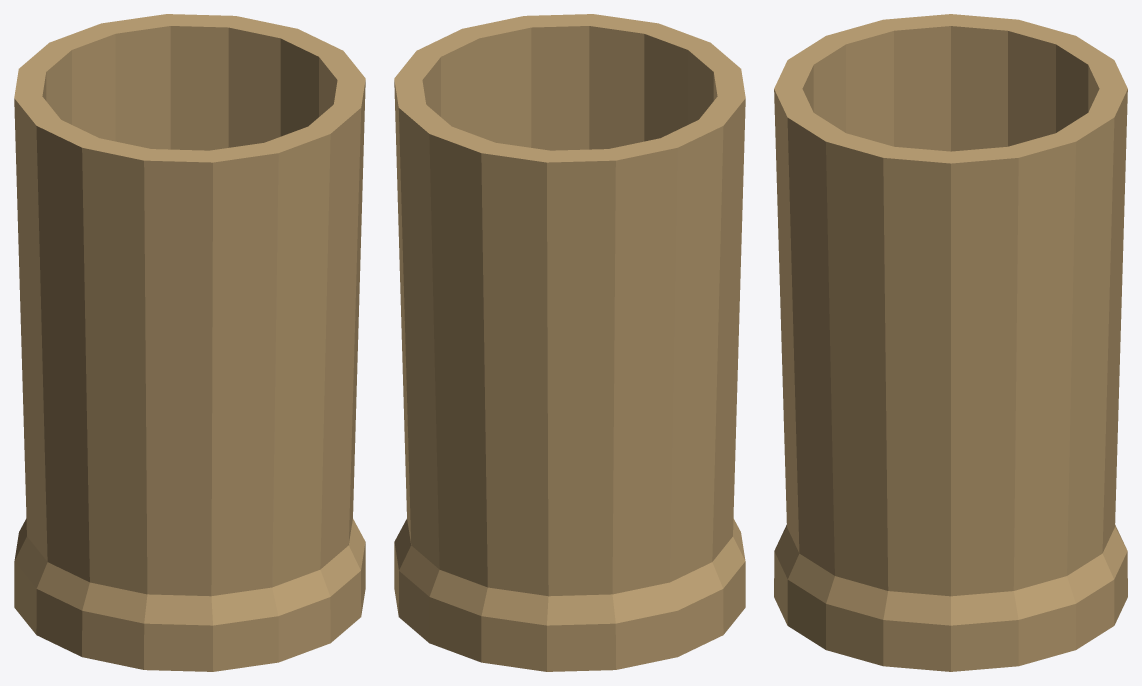
Rendered from 9x19mm Parabelum Shell.fbx.
The picture shows the model from 3 angles, left to right: view 1: azimuth 30°, elevation 25°; view 2: azimuth 150°, elevation 25°; view 3: azimuth 270°, elevation 25°; orthographic projection.
Visible parts, largest first — view 1: Cylinder.001; view 2: Cylinder.001; view 3: Cylinder.001.
Boxes of the visible parts, left/top/right/bottom form: Cylinder.001: left=14, top=14, right=365, bottom=671; Cylinder.001: left=394, top=14, right=745, bottom=671; Cylinder.001: left=774, top=14, right=1127, bottom=671.
Size of the model in its own units: 1.21 by 1.93 by 1.21.
